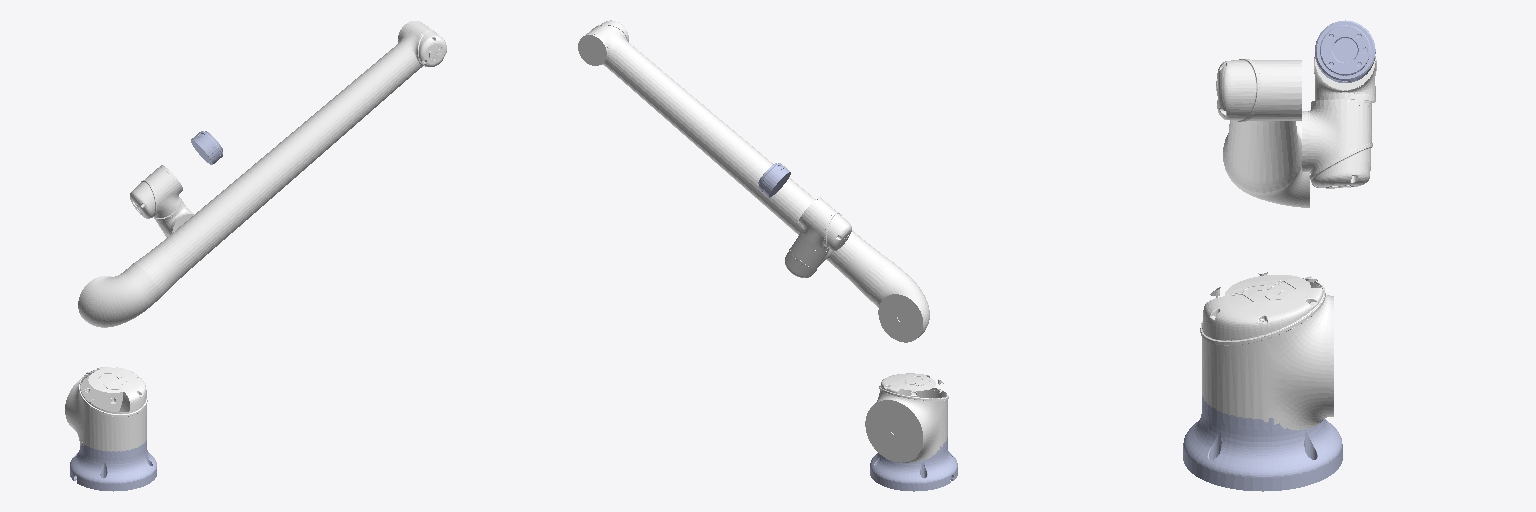
robot.urdf — ec63:
<?xml version="1.0" encoding="utf-8"?>

<robot name="ec63" xmlns:xacro="http://www.ros.org/wiki/xacro">

    <link name="base_link">
    <inertial>
        <origin xyz="6.6025E-05 1.6931E-05 0.036471" rpy="0 0 0" />
        <mass value="0.3647" />
        <inertia ixx="0.00059057" ixy="6.2306E-07" ixz="6.6029E-07" iyy="0.00058934" iyz="-4.8028E-08"
            izz="0.00074656" />
    </inertial>
    <visual>
        <origin xyz="0 0 0" rpy="0 0 0" />
        <geometry>
            <mesh filename="../meshes/base_link.STL" />
        </geometry>
        <material name="">
            <color rgba="0.79216 0.81961 0.93333 1" />
        </material>
    </visual>
    <collision>
        <origin xyz="0 0 0" rpy="0 0 0" />
        <geometry>
            <mesh filename="../meshes/base_link.STL" />
        </geometry>
    </collision>
    </link>
    <link name="link1">
    <inertial>
        <origin xyz="-5.9693298609962E-07 0.00718798730554815 0.00130597011750025" rpy="0 0 0" />
        <mass value="1.0468989469595" />
        <inertia ixx="0.00131622835302873" ixy="1.33626024644229E-08" ixz="1.22267487012503E-08"
            iyy="0.00121041697616178" iyz="-0.000167494836949108" izz="0.00140200332966305" />
    </inertial>
    <visual>
        <origin xyz="0 0 0" rpy="0 0 0" />
        <geometry>
            <mesh filename="../meshes/link1.STL" />
        </geometry>
        <material name="">
            <color rgba="1 1 1 1" />
        </material>
    </visual>
    <collision>
        <origin xyz="0 0 0" rpy="0 0 0" />
        <geometry>
            <mesh filename="../meshes/link1.STL" />
        </geometry>
    </collision>
    </link>
    <joint name="joint1" type="revolute">
        <origin xyz="0 0 0.14" rpy="0 0 0" />
        <parent link="base_link" />
        <child link="link1" />
        <axis xyz="0 0 1" />
        <limit lower="-6.2832" upper="6.2832" effort="90" velocity="3.3161" />
    </joint>
    <link name="link2">
    <inertial>
        <origin xyz="0.13499 -8.1271E-07 0.12053" rpy="0 0 0" />
        <mass value="2.6439" />
        <inertia ixx="0.0032939" ixy="-2.7429E-08" ixz="-3.997E-09" iyy="0.0044238" iyz="-1.4367E-07" izz="0.004596" />
    </inertial>
    <visual>
        <origin xyz="0 0 0.059" rpy="-1.57 -1.57 1.57" />
        <geometry>
            <mesh filename="../meshes/link2.dae" />
        </geometry>
        <!-- <material name="">
            <color rgba="1 1 1 1" />
        </material> -->
    </visual>
    <collision>
        <origin xyz="0 0 0.059" rpy="-1.57 -1.57 1.57" />
        <geometry>
            <mesh filename="../meshes/link2_decimated.dae" />
        </geometry>
    </collision>
    </link>
    <joint name="joint2" type="revolute">
        <origin xyz="0 0 0" rpy="-1.5708 -1.57 0" />
        <parent link="link1" />
        <child link="link2" />
        <axis xyz="0 0 1" />
        <limit lower="-6.2832" upper="6.2832" effort="90" velocity="3.3161" />
    </joint>
    <link name="link3">
    <inertial>
        <origin xyz="0.12895 -1.241E-05 0.011444" rpy="0 0 0" />
        <mass value="1.4492" />
        <inertia ixx="0.0012764" ixy="-3.0636E-08" ixz="7.348E-05" iyy="0.0020529" iyz="-2.1502E-07" izz="0.0020542" />
    </inertial>
    <visual>
        <origin xyz="0 0 0" rpy="0 0 0" />
        <geometry>
            <mesh filename="../meshes/link3.STL" />
        </geometry>
        <material name="">
            <color rgba="1 1 1 1" />
        </material>
    </visual>
    <collision>
        <origin xyz="0 0 0" rpy="0 0 0" />
        <geometry>
            <mesh filename="../meshes/link3.STL" />
        </geometry>
    </collision>
    </link>
    <joint name="joint3" type="revolute">
        <origin xyz="0.27 0 0" rpy="0 0 1.04" />
        <parent link="link2" />
        <child link="link3" />
        <axis xyz="0 0 1" />
        <limit lower="-2.7925" upper="2.7925" effort="90" velocity="3.3161" />
    </joint>
    <link name="link4">
    <inertial>
        <origin xyz="-5.2284E-07 -0.00070291 0.097494" rpy="0 0 0" />
        <mass value="0.53436" />
        <inertia ixx="0.00041486" ixy="-4.4868E-09" ixz="-1.0989E-09" iyy="0.0004403" iyz="-5.8283E-05"
            izz="0.00037669" />
    </inertial>
    <visual>
        <origin xyz="0 0 0" rpy="0 0 0" />
        <geometry>
            <mesh filename="../meshes/link4.STL" />
        </geometry>
        <material name="">
            <color rgba="1 1 1 1" />
        </material>
    </visual>
    <collision>
        <origin xyz="0 0 0" rpy="0 0 0" />
        <geometry>
            <mesh filename="../meshes/link4.STL" />
        </geometry>
    </collision>
    </link>
    <joint name="joint4" type="revolute">
        <origin xyz="0.256 0 0" rpy="0 0 3.14" />
        <parent link="link3" />
        <child link="link4" />
        <axis xyz="0 0 1" />
        <limit lower="-6.2832" upper="6.2832" effort="20" velocity="4.5379" />
    </joint>
    <link name="link5">
    <inertial>
        <origin xyz="-5.2273E-07 -0.0012029 0.091994" rpy="0 0 0" />
        <mass value="0.53436" />
        <inertia ixx="0.00041486" ixy="-4.4901E-09" ixz="-1.1099E-09" iyy="0.0004403" iyz="-5.8283E-05"
            izz="0.00037669" />
    </inertial>
    <visual>
        <origin xyz="0 0 0" rpy="0 0 0" />
        <geometry>
            <mesh filename="../meshes/link5.STL" />
        </geometry>
        <material name="">
            <color rgba="1 1 1 1" />
        </material>
    </visual>
    <collision>
        <origin xyz="0 0 0" rpy="0 0 0" />
        <geometry>
            <mesh filename="../meshes/link5.STL" />
        </geometry>
    </collision>
    </link>
    <joint name="joint5" type="revolute">
        <origin xyz="0 0 0.103" rpy="-1.5708 1.5708 0" />
        <parent link="link4" />
        <child link="link5" />
        <axis xyz="0 0 1" />
        <limit lower="-6.2832" upper="6.2832" effort="20" velocity="4.5379" />
    </joint>
    <link name="link6">
    <inertial>
        <origin xyz="7.5563E-12 2.6132E-05 -0.021697" rpy="0 0 0" />
        <mass value="0.16467" />
        <inertia ixx="7.7607E-05" ixy="1.4753E-10" ixz="1.0602E-13" iyy="7.7808E-05" iyz="-7.8486E-08"
            izz="0.00011753" />
    </inertial>
    <visual>
        <origin xyz="0 0 0" rpy="0 0 0" />
        <geometry>
            <mesh filename="../meshes/link6.STL" />
        </geometry>
        <material name="">
            <color rgba="0.79216 0.81961 0.93333 1" />
        </material>
    </visual>
    <collision>
        <origin xyz="0 0 0" rpy="0 0 0" />
        <geometry>
            <mesh filename="../meshes/link6.STL" />
        </geometry>
    </collision>
    </link>
    <joint name="joint6" type="revolute">
        <origin xyz="0 0.089 0.098" rpy="-1.5708 3.14 0" />
        <parent link="link5" />
        <child link="link6" />
        <axis xyz="0 0 1" />
        <limit lower="-6.2832" upper="6.2832" effort="20" velocity="4.5379" />
    </joint>
    <link name="flan" />
    <joint name="flan_joint" type="fixed">
        <origin xyz="0 0 0" rpy="0 0 0" />
        <parent link="link6" />
        <child link="flan" />
    </joint>    
    
</robot>

--- What the picture shows (computed from the rendered views, not written in the file) ---
The picture shows the robot from 3 angles, left to right: view 1: azimuth 30°, elevation 25°; view 2: azimuth 150°, elevation 25°; view 3: azimuth 270°, elevation 25°; orthographic projection.
Robot: ec63 — 8 links, 7 joints (6 revolute, 1 fixed); root link base_link; default pose: every joint at zero.
Links seen in each view (by area): view 1: link3, link1, base_link, link5, link6, link4; view 2: link3, link1, base_link, link5, link4, link6; view 3: link1, link3, base_link, link4, link6, link5.
Link boxes in pixels (x1,y1,x2,y2): link3: (78,21,446,327); link1: (65,367,147,451); base_link: (70,440,156,491); link5: (130,165,182,218); link6: (191,131,222,164); link4: (154,198,194,237); link3: (578,20,929,342); link1: (865,373,948,462); base_link: (870,437,957,491); link5: (798,197,851,250); link4: (785,231,832,277); link6: (758,163,790,197); link1: (1200,272,1333,430); link3: (1216,59,1309,207); base_link: (1183,396,1342,491); link4: (1302,99,1372,188); link6: (1315,20,1375,82); link5: (1314,56,1376,102).
Size in the robot's own frame: 0.9522 by 0.2427 by 0.9258 metres.
Meshes: 7 distinct files referenced, 6 mesh visuals loaded (6 binary STL); not drawn: 1 (reference not matched to a file when rendering).
